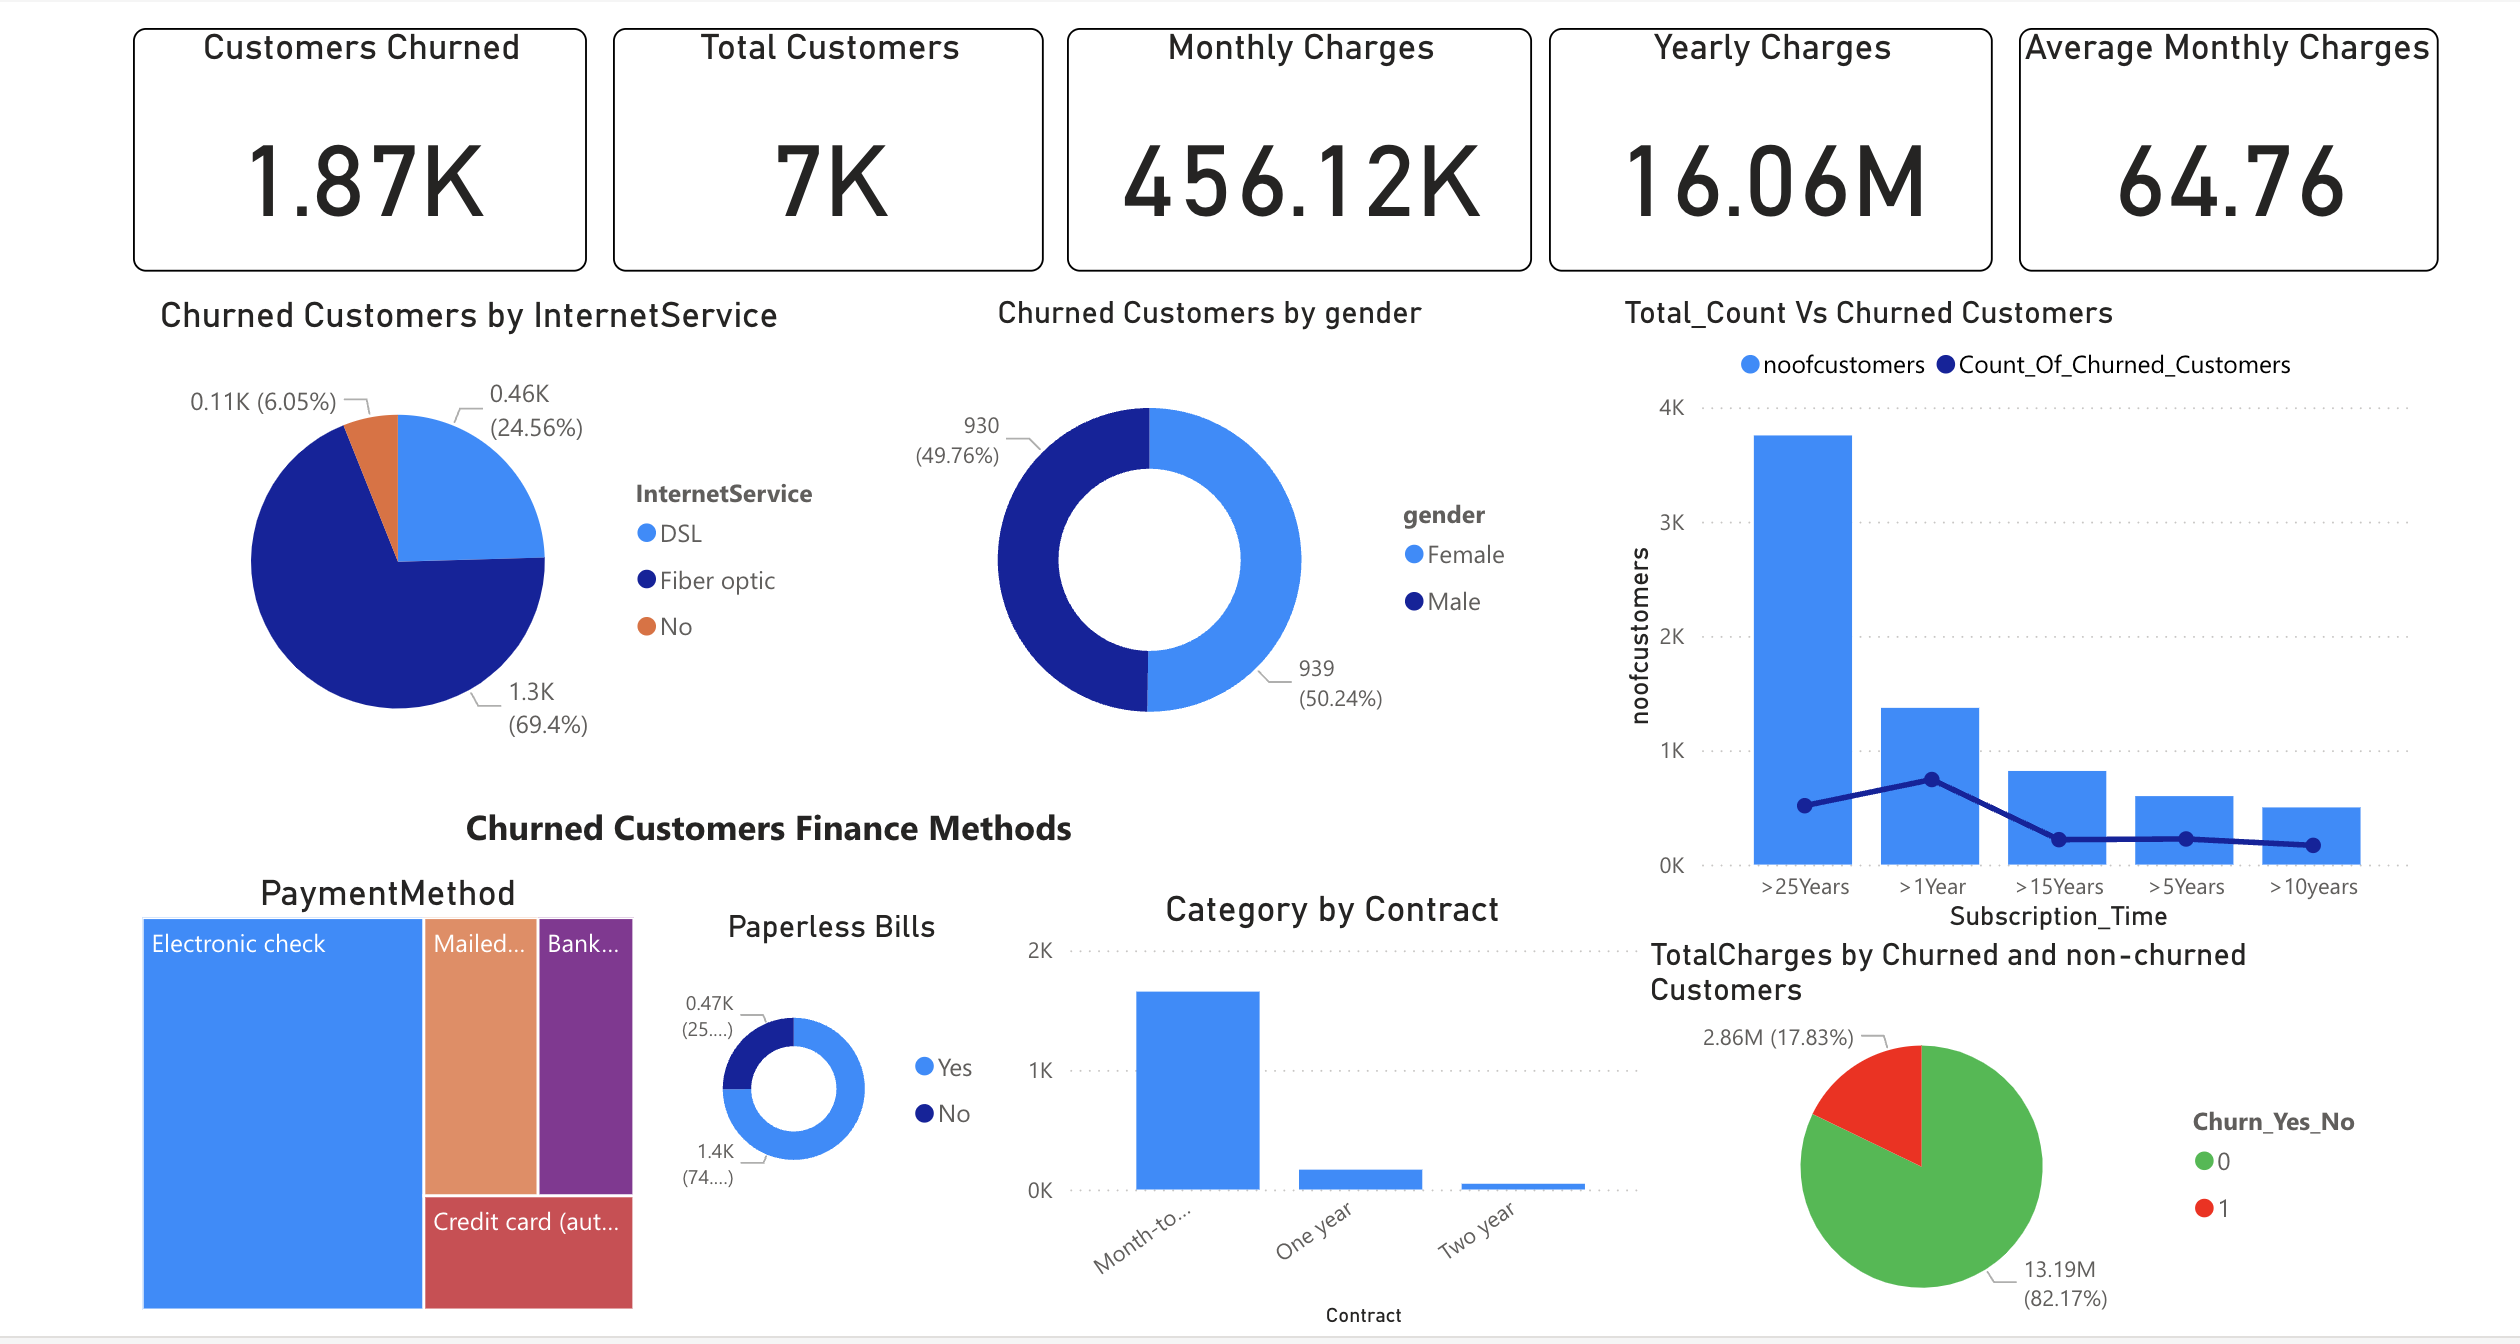

Layout of this report page (visuals, bound fields, positions):
{"tool":"powerbi","page":{"name":"Page 1","canvas":[1280,720],"ordinal":0},"visuals":[{"type":"card","title":"Customers Churned","fields":{"Values":["Customer_Churn.Count_Of_Churned_Customers"]},"box":[19.7,13.9,245.1,131.3],"z":0},{"type":"pieChart","title":"Churned Customers by InternetService","fields":{"Y":["Customer_Churn.Count_Of_Churned_Customers"],"Series":["Customer_Churn.InternetService"]},"box":[29,160.3,377.5,267.2],"z":1},{"type":"card","title":"Total Customers","fields":{"Values":["Customer_Churn.noofcustomers"]},"box":[278.8,13.9,232.3,131.3],"z":2},{"type":"columnChart","title":"Category by Contract","fields":{"Category":["Customer_Churn.Contract"],"Y":["Customer_Churn.Count_Of_Churned_Customers"]},"box":[486.7,480.9,360.1,239.3],"z":3},{"type":"card","title":"Yearly Charges","fields":{"Values":["Customer_Churn.Yearly_Charges"]},"box":[784,13.9,239.3,131.3],"z":4},{"type":"card","title":"Monthly Charges","fields":{"Values":["Customer_Churn.Monthly_Charges"]},"box":[523.8,13.9,250.9,131.3],"z":5},{"type":"treemap","title":"PaymentMethod","fields":{"Group":["Customer_Churn.PaymentMethod"],"Values":["Customer_Churn.Count_Of_Churned_Customers"]},"box":[19.7,471.6,275.3,239.3],"z":6},{"type":"card","title":"Average Monthly Charges","fields":{"Values":["Customer_Churn.Average_Monthly_Charges"]},"box":[1037.2,13.9,226.5,131.3],"z":7},{"type":"donutChart","title":"Churned Customers by gender","fields":{"Y":["Customer_Churn.Count_Of_Churned_Customers"],"Category":["Customer_Churn.gender"]},"box":[426.3,160.3,348.5,267.2],"z":8},{"type":"donutChart","title":"Paperless Bills","fields":{"Y":["Customer_Churn.Count_Of_Churned_Customers"],"Category":["Customer_Churn.PaperlessBilling"]},"box":[306.6,491.3,180,175.4],"z":9},{"type":"lineStackedColumnComboChart","title":"Total_Count Vs Churned Customers ","fields":{"Category":["Customer_Churn.Subscription_Time"],"Y":["Customer_Churn.noofcustomers"],"Y2":["Customer_Churn.Count_Of_Churned_Customers"]},"box":[818.9,160.3,436.7,346.1],"z":10},{"type":"textbox","box":[158,427.4,410,44.1],"z":11},{"type":"pieChart","title":"TotalCharges by Churned and non-churned Customers","fields":{"Y":["Sum(Customer_Churn.TotalCharges)"],"Category":["Customer_Churn.Churn_Yes_No"]},"box":[832.8,506.4,408.9,213.7],"z":12}]}

Visuals, with their boxes on the page's 1280x720 design canvas (x1, y1, x2, y2). These are canvas units, not pixel positions in the 2520x1344 screenshot, which may show the page scaled, cropped or inside an application window:
"Customers Churned" card: (left=20, top=14, right=265, bottom=145)
"Churned Customers by InternetService" pieChart: (left=29, top=160, right=406, bottom=428)
"Total Customers" card: (left=279, top=14, right=511, bottom=145)
"Category by Contract" columnChart: (left=487, top=481, right=847, bottom=720)
"Yearly Charges" card: (left=784, top=14, right=1023, bottom=145)
"Monthly Charges" card: (left=524, top=14, right=775, bottom=145)
"PaymentMethod" treemap: (left=20, top=472, right=295, bottom=711)
"Average Monthly Charges" card: (left=1037, top=14, right=1264, bottom=145)
"Churned Customers by gender" donutChart: (left=426, top=160, right=775, bottom=428)
"Paperless Bills" donutChart: (left=307, top=491, right=487, bottom=667)
"Total_Count Vs Churned Customers " lineStackedColumnComboChart: (left=819, top=160, right=1256, bottom=506)
textbox: (left=158, top=427, right=568, bottom=472)
"TotalCharges by Churned and non-churned Customers" pieChart: (left=833, top=506, right=1242, bottom=720)
